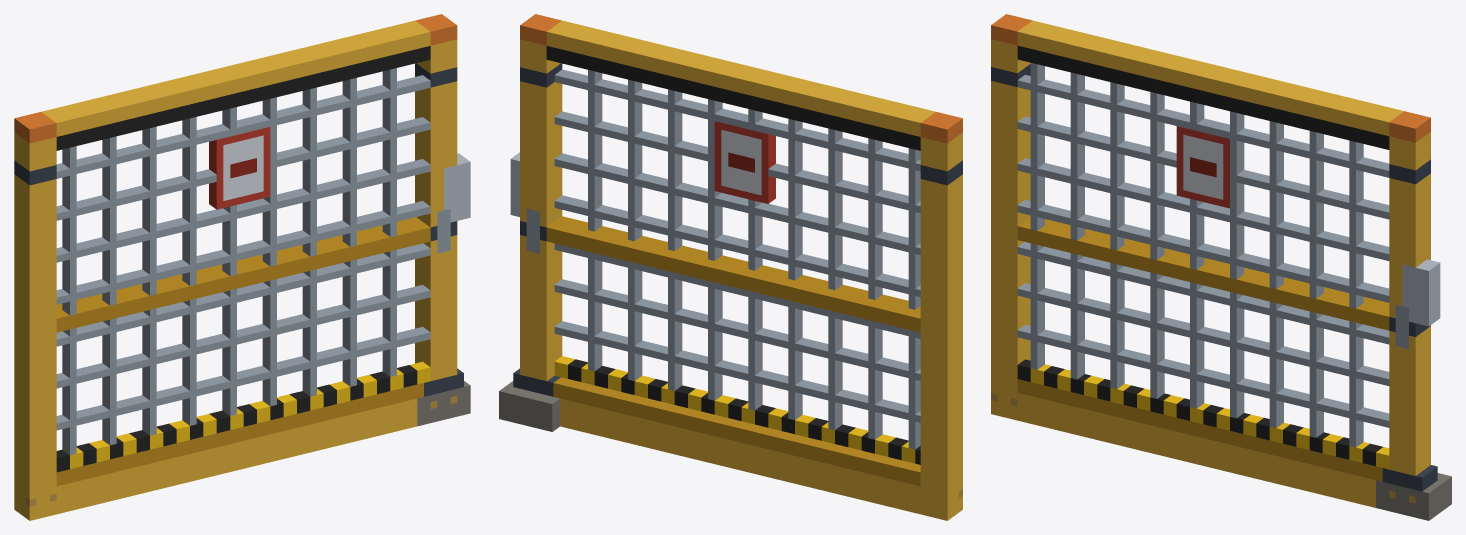
File: safety_fence.obj
3 views of the same model, side by side, from view 1: azimuth 30°, elevation 25°; view 2: azimuth 150°, elevation 25°; view 3: azimuth 330°, elevation 25° (orthographic).
Parts seen in each view (by area): view 1: safety_fence; view 2: safety_fence; view 3: safety_fence.
Boxes of the visible parts, <box> form: safety_fence: <box>14,14,470,520</box>; safety_fence: <box>499,14,962,520</box>; safety_fence: <box>991,14,1451,520</box>.
Bounding box in the file's own units: 2.06 × 1.75 × 0.1875.
